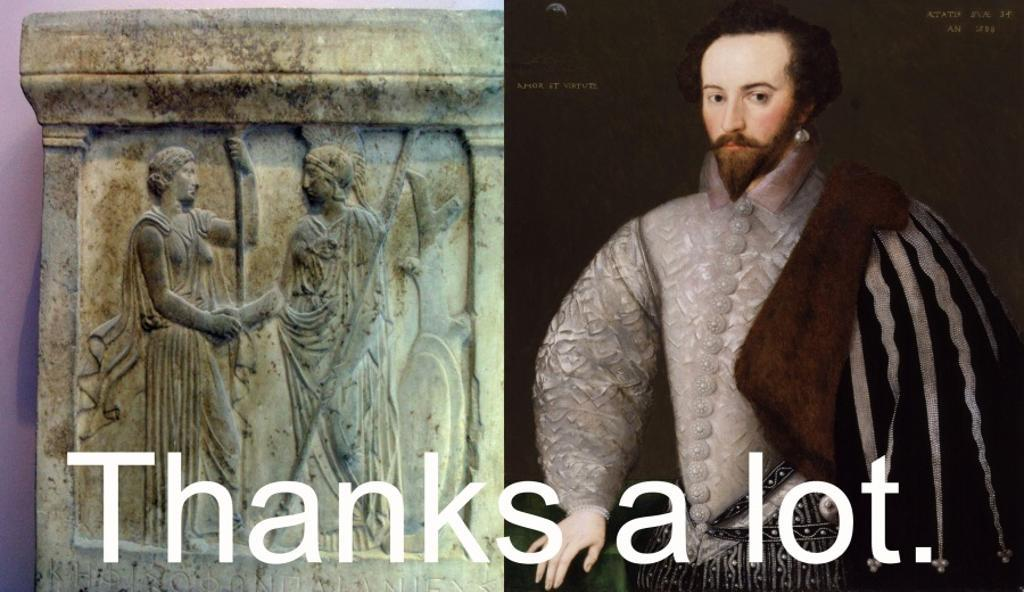face: (703, 33, 799, 183)
